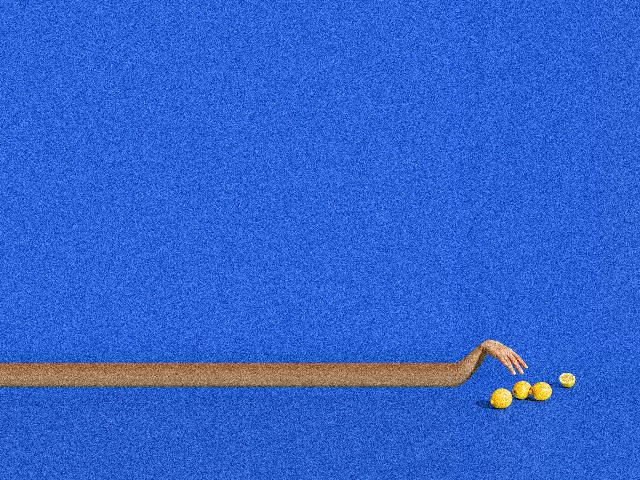lemon: (529, 381, 553, 398)
